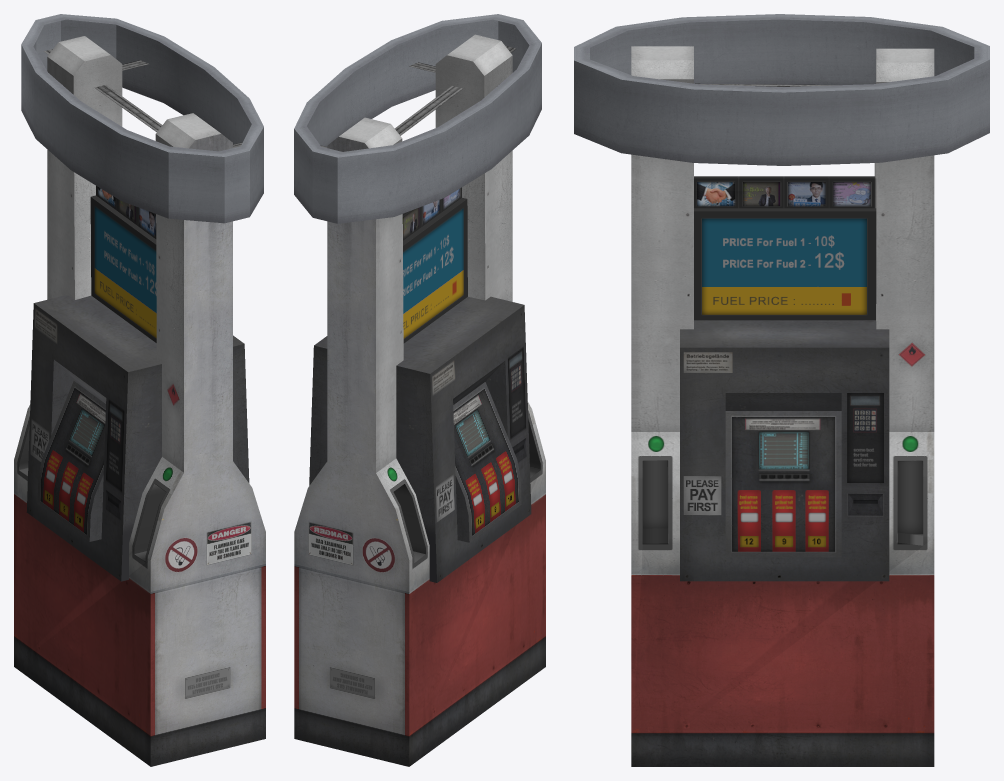
Rendered from fuel_machine.fbx.
The picture shows the model from 3 angles, left to right: view 1: azimuth 30°, elevation 25°; view 2: azimuth 150°, elevation 25°; view 3: azimuth 270°, elevation 25°; orthographic projection. The views are drawn at different scales.
Visible parts, largest first — view 1: Fuel_Machine_1; view 2: Fuel_Machine_1; view 3: Fuel_Machine_1.
Part boxes in pixels (bbox=[...]): Fuel_Machine_1: bbox=[14, 14, 265, 766]; Fuel_Machine_1: bbox=[294, 14, 545, 766]; Fuel_Machine_1: bbox=[574, 14, 989, 766].
Bounding box in the file's own units: 0.7234 × 2.8 × 1.55.
